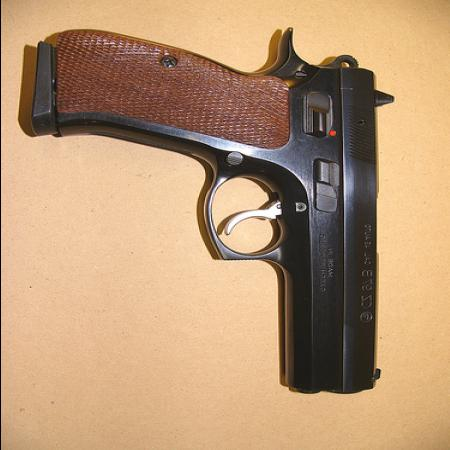Pistol: (34, 29, 394, 396)
